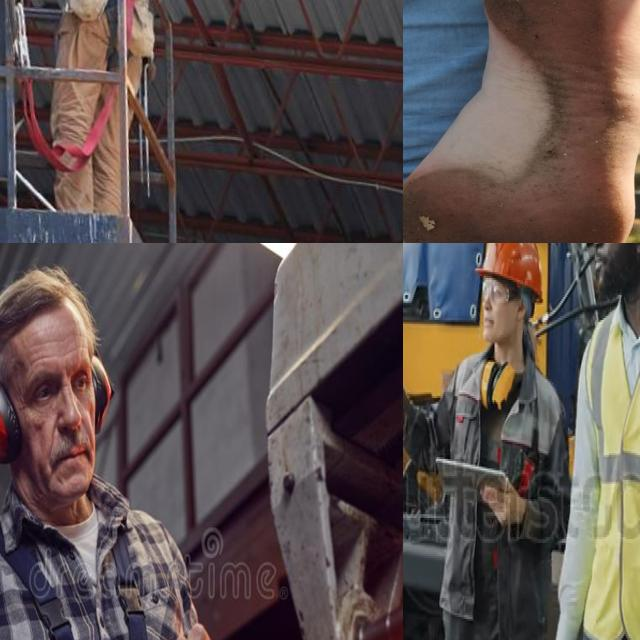Barefoots: (403, 0, 636, 243)
Ear-protection: (0, 271, 123, 519), (476, 352, 516, 417)
No_Glasses: (10, 352, 94, 411)
glasses: (480, 276, 524, 312)
head_helmet: (476, 243, 547, 304)
person: (0, 246, 255, 640), (434, 243, 573, 640), (574, 243, 640, 640)
vest: (582, 297, 640, 640)
